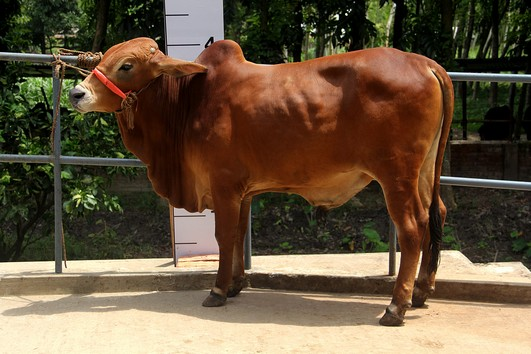cow: (66, 27, 457, 334)
